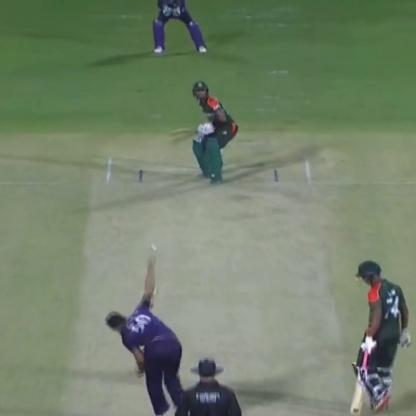ball: (144, 239, 161, 259)
bat: (158, 117, 211, 149)
pitch: (73, 152, 357, 416)
